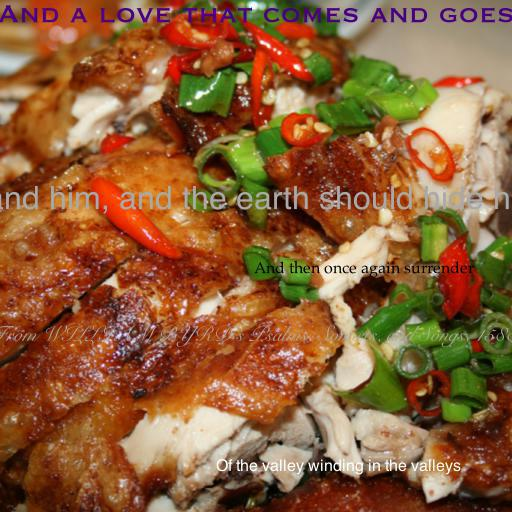Big Caslon: (0, 185, 512, 214)
Copperplate: (0, 5, 512, 23)
Palatino: (254, 260, 474, 278)
SignPainter: (215, 459, 461, 475)
Snell Roundhand: (0, 324, 512, 348)
